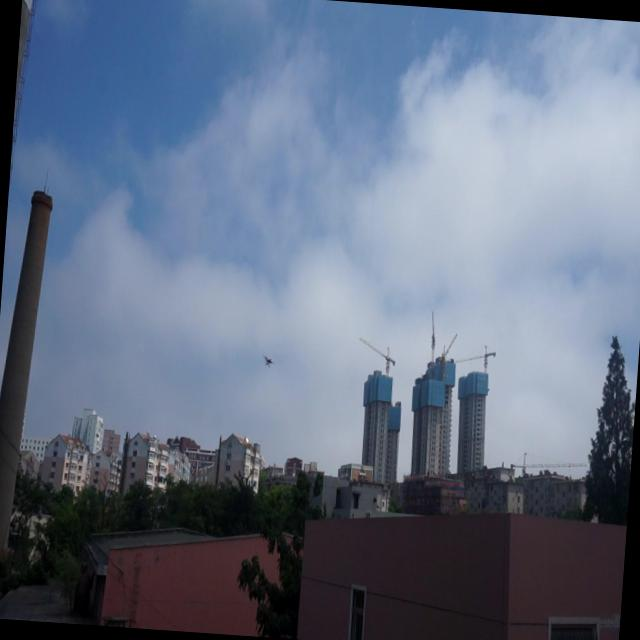drone: (260, 352, 276, 369)
